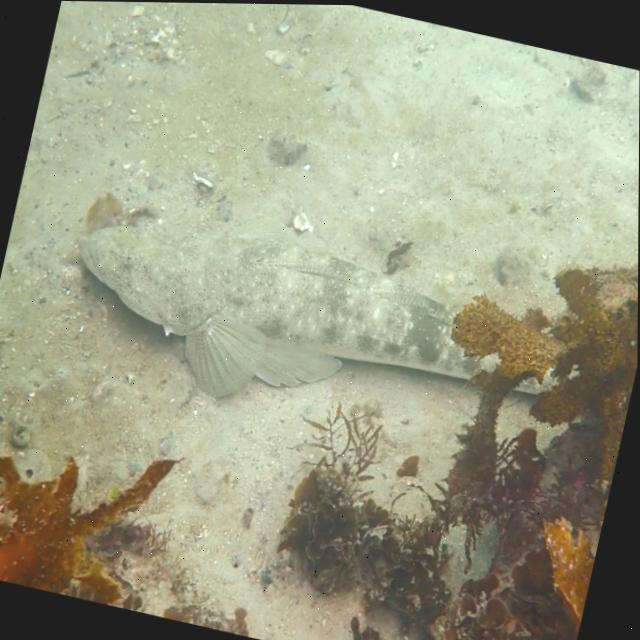Flathead: (33, 151, 615, 487)
